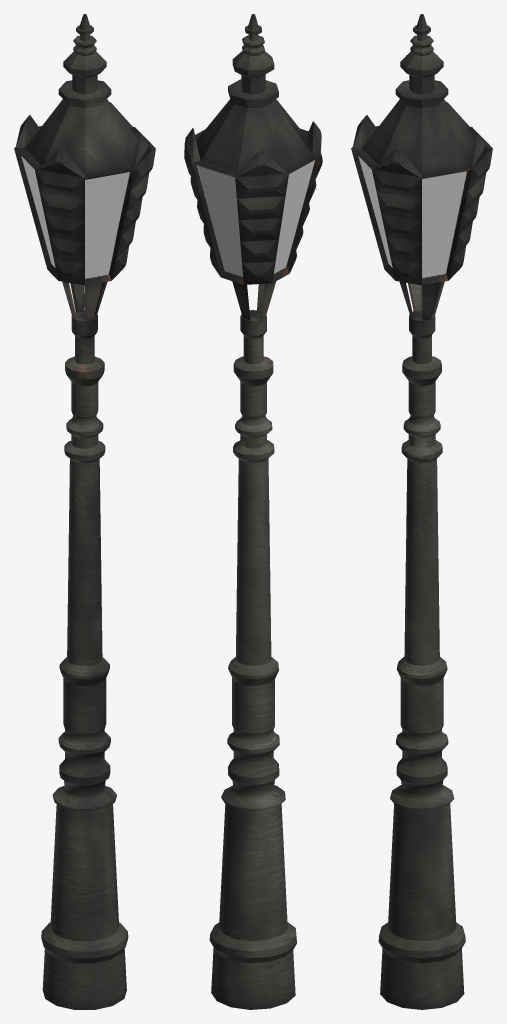
Rendered from lantern.glb.
The picture shows the model from 3 angles, left to right: view 1: azimuth 90°, elevation 25°; view 2: azimuth 210°, elevation 25°; view 3: azimuth 270°, elevation 25°; orthographic projection.
Visible parts, largest first — view 1: Laterne 1_Material #47_0; view 2: Laterne 1_Material #47_0; view 3: Laterne 1_Material #47_0.
Boxes of the visible parts, box(x1,y1,x2,y2) form: Laterne 1_Material #47_0: box(14, 14, 155, 1009); Laterne 1_Material #47_0: box(184, 14, 322, 1009); Laterne 1_Material #47_0: box(351, 14, 492, 1009).
Bounding box in the file's own units: 39.75 × 302 × 39.75.
Materials: 1 (1 with a texture image).
